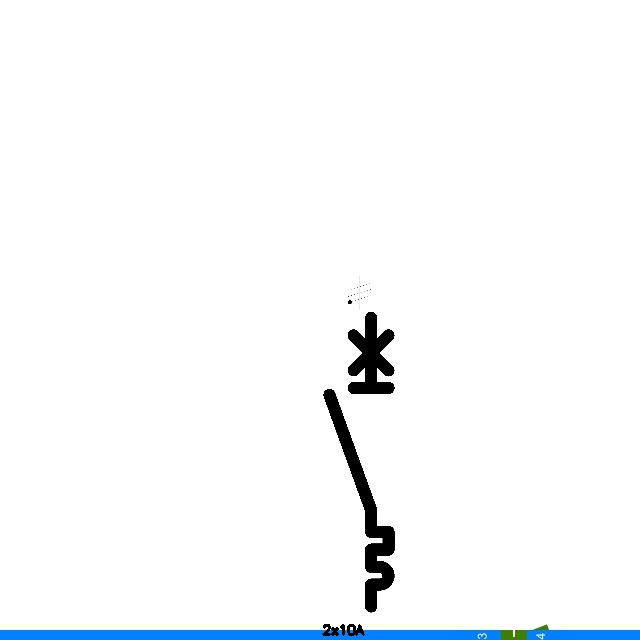interruptor_termomagnetico: (322, 310, 396, 614)
